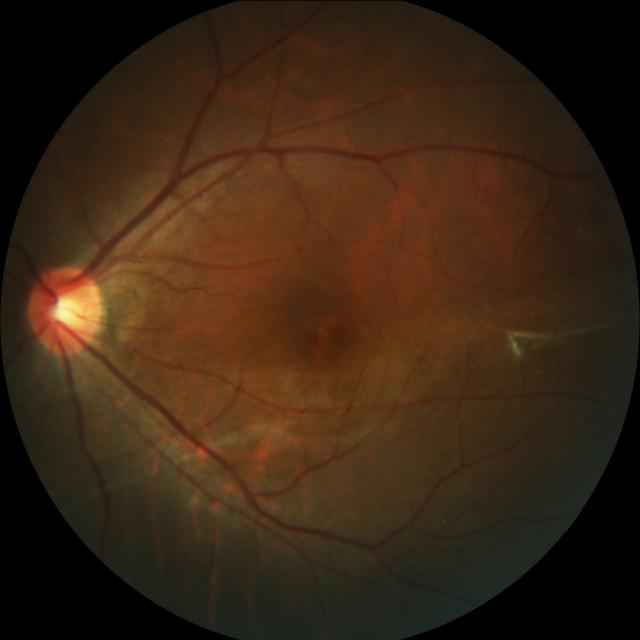OC: (46, 293, 82, 326)
OD: (27, 262, 102, 354)
